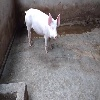heo: (23, 6, 62, 56)
